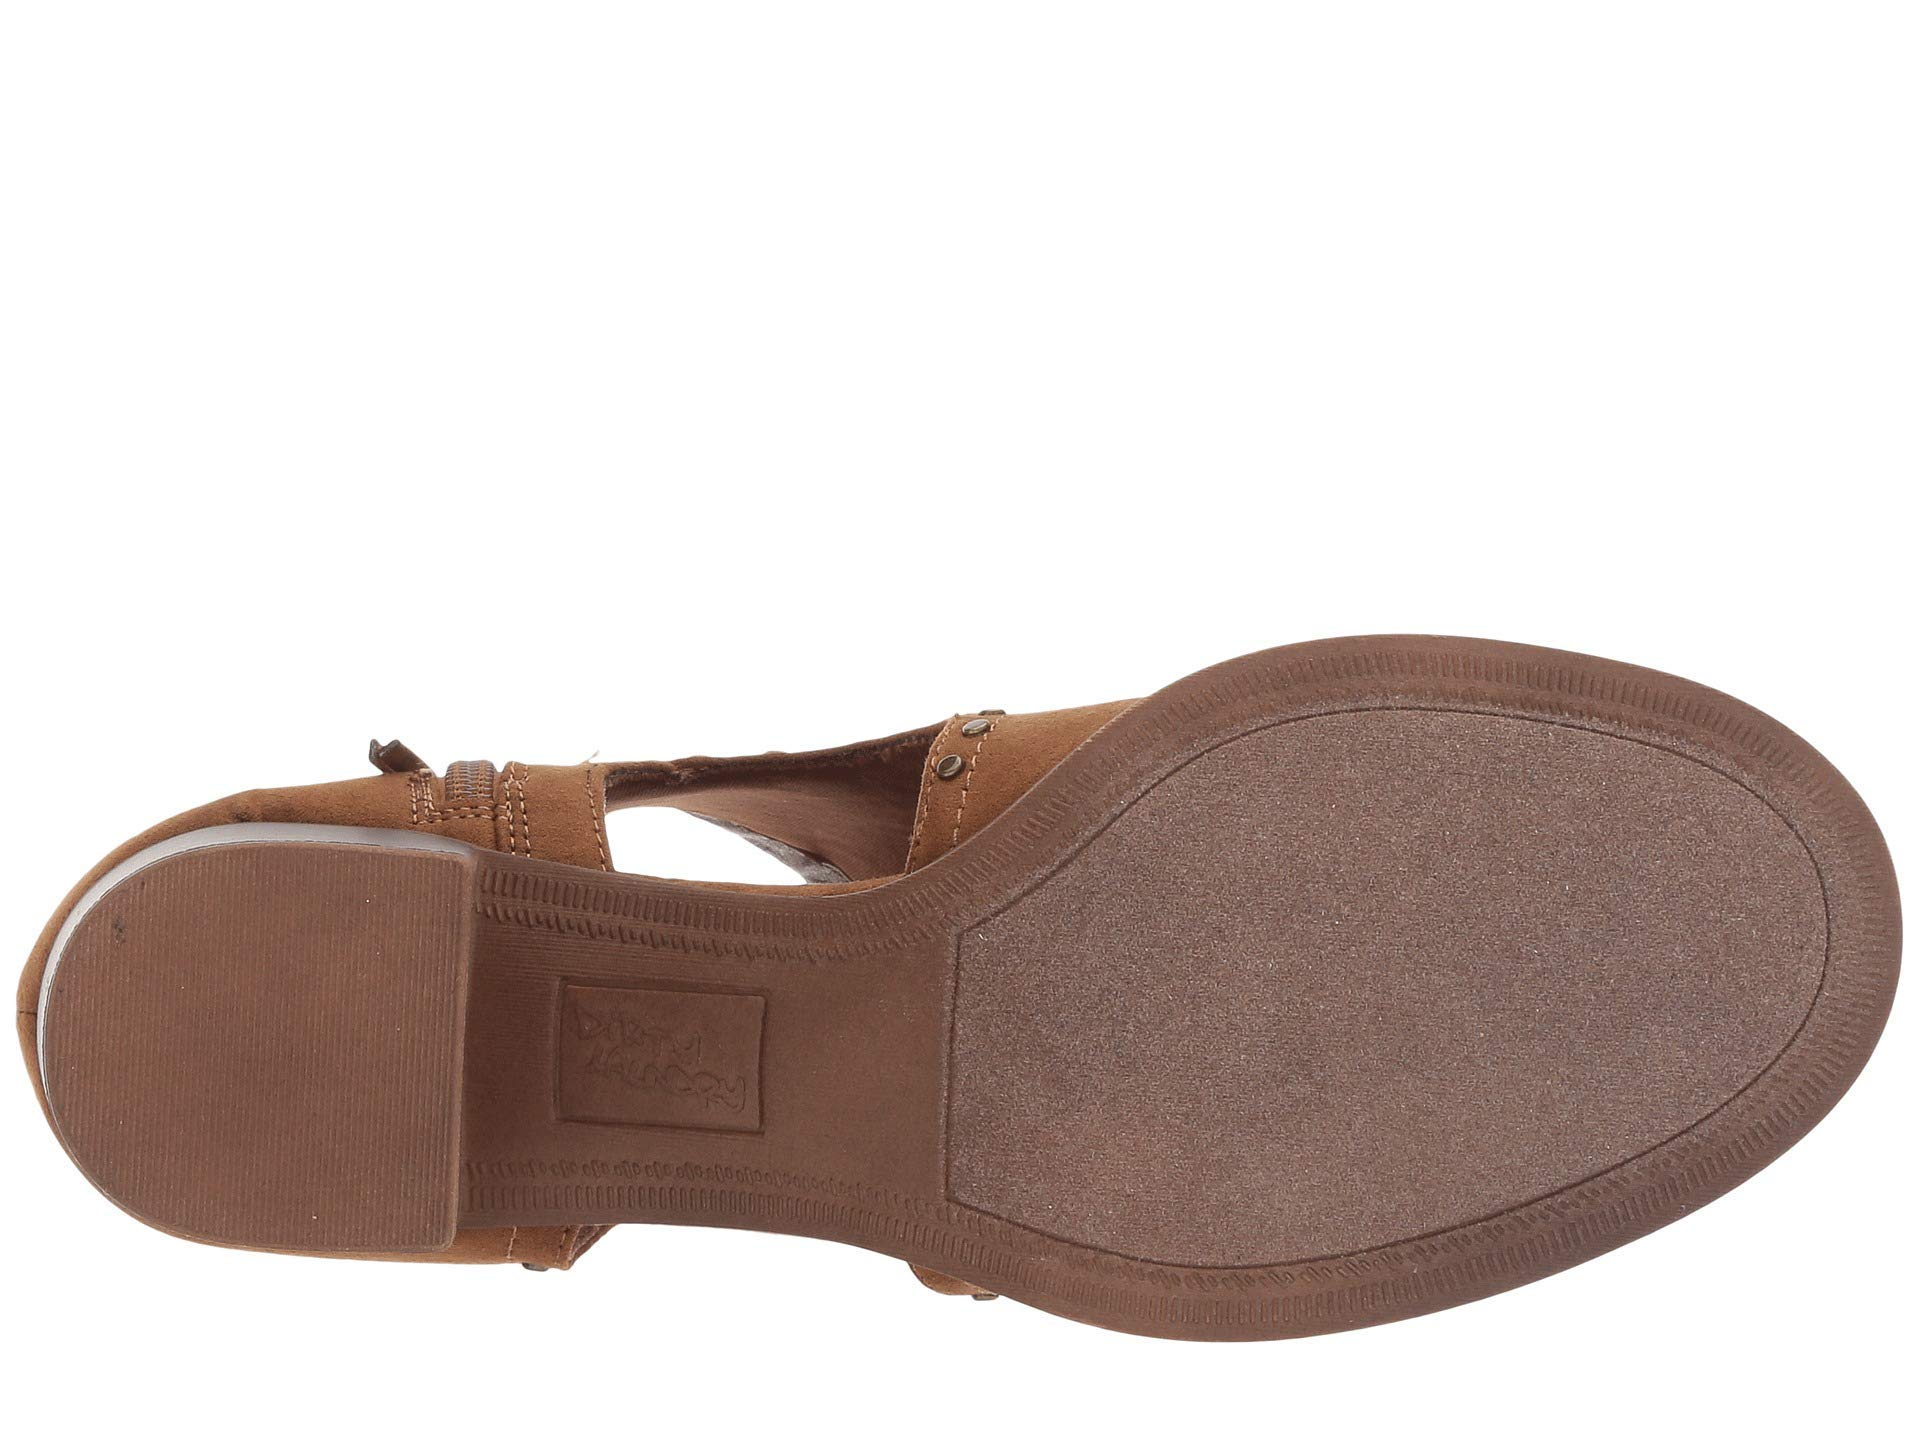line: (178, 936, 382, 1216)
